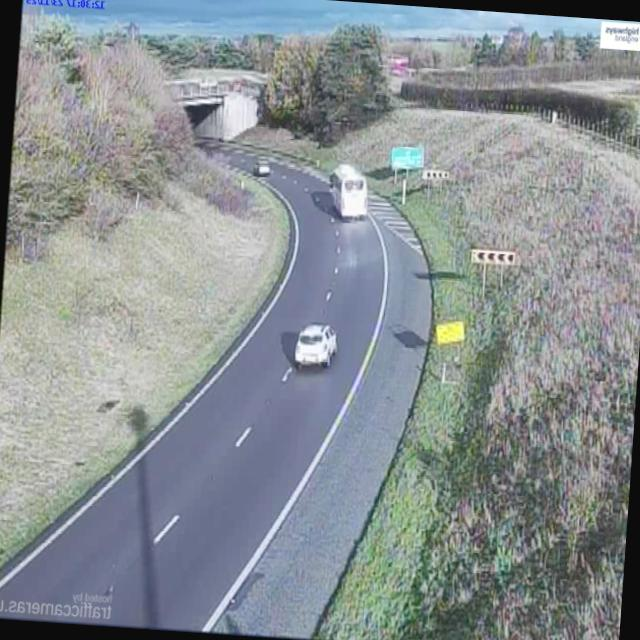foliage: (5, 18, 207, 252), (261, 25, 389, 144)
